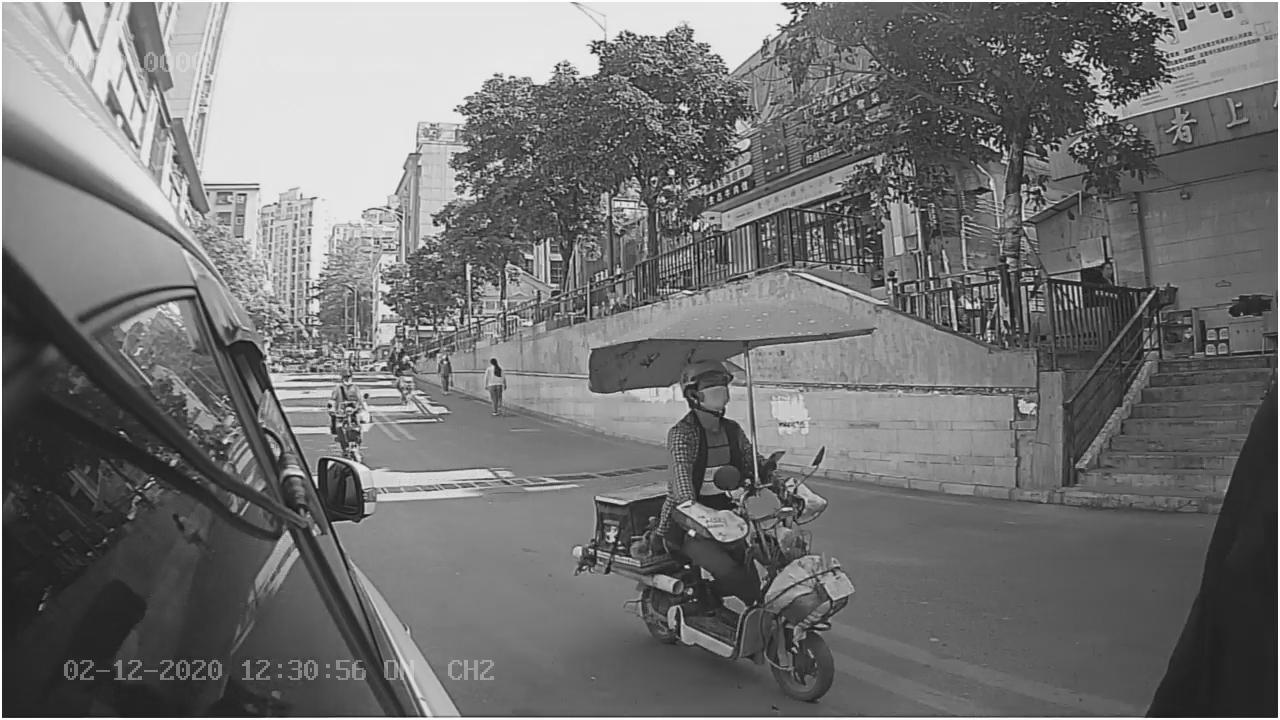person: (662, 359, 798, 513)
